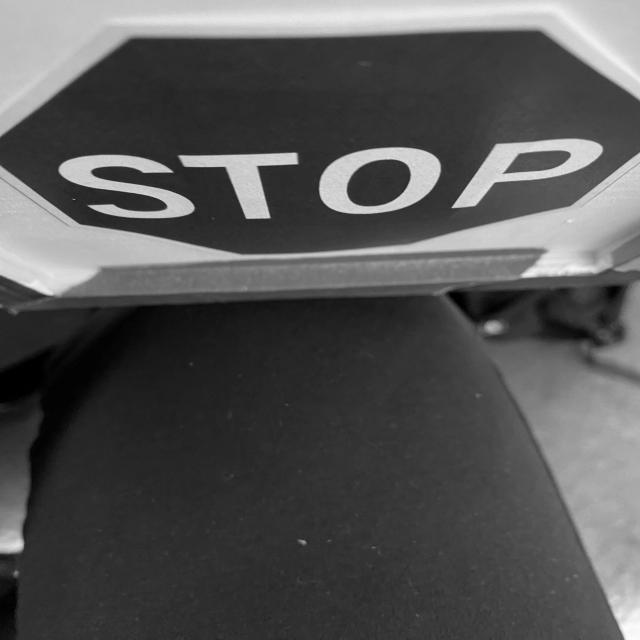stop: (0, 19, 640, 261)
